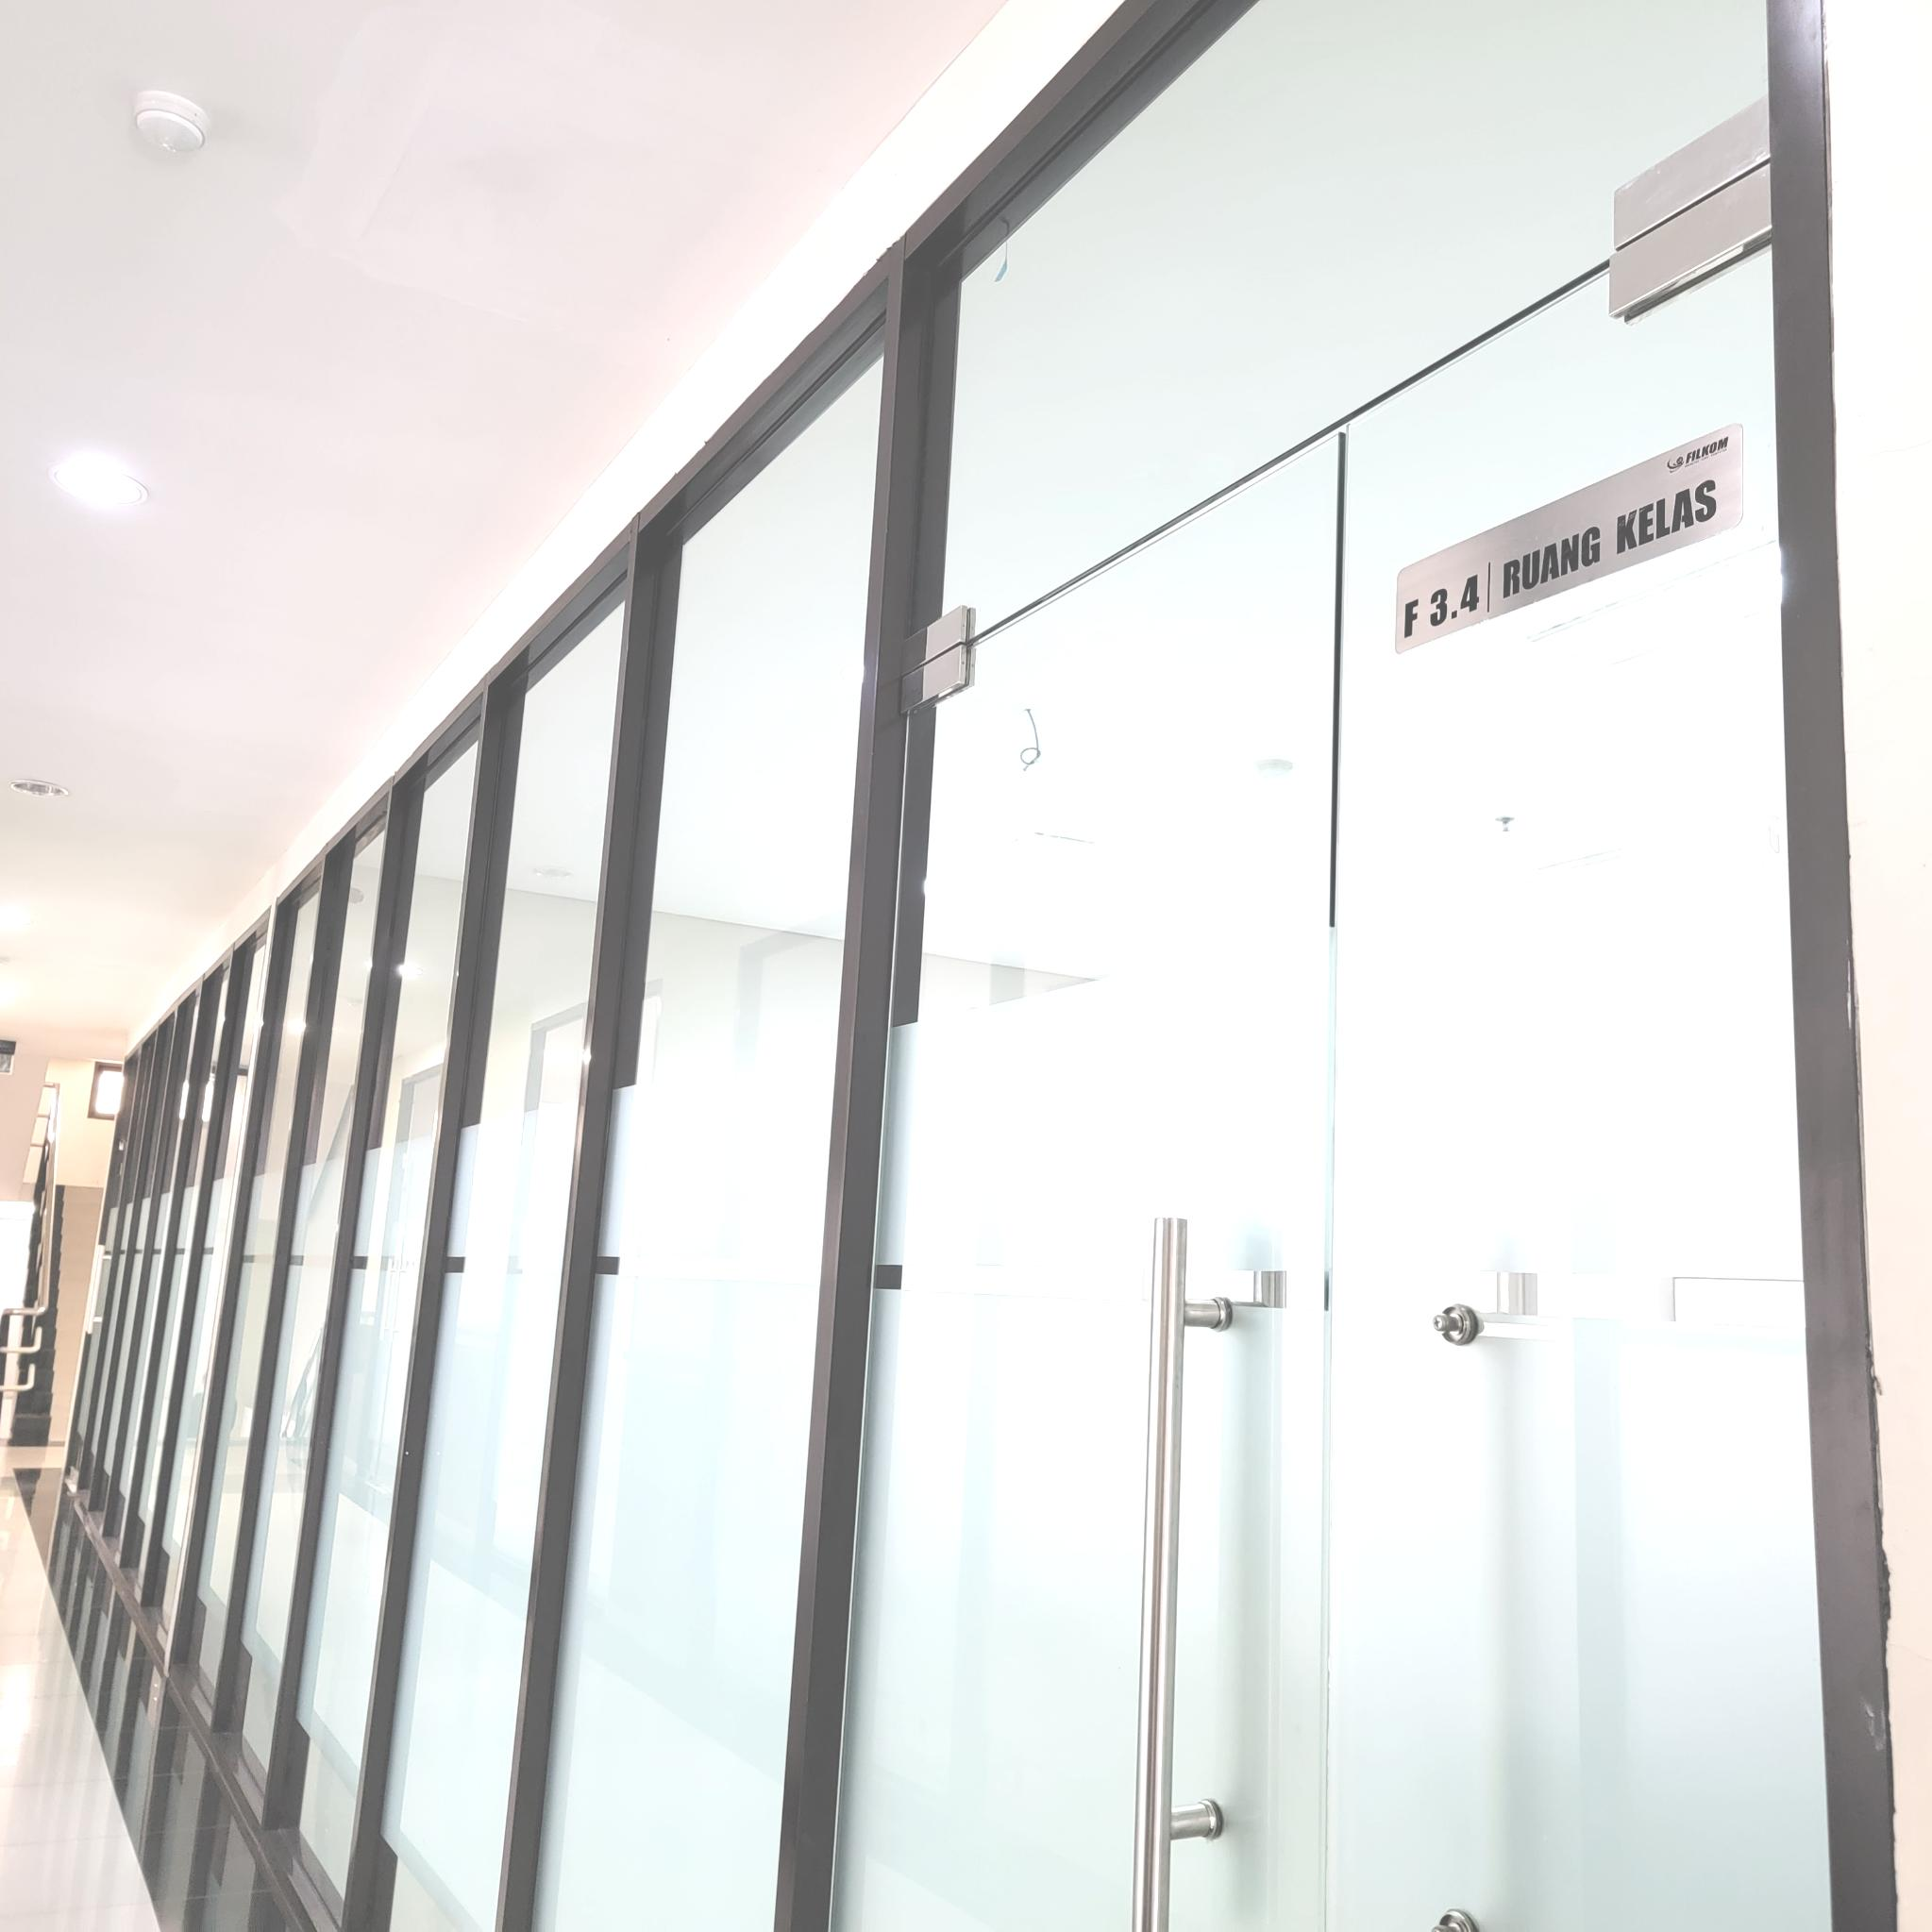plate: (1392, 425, 1744, 656)
